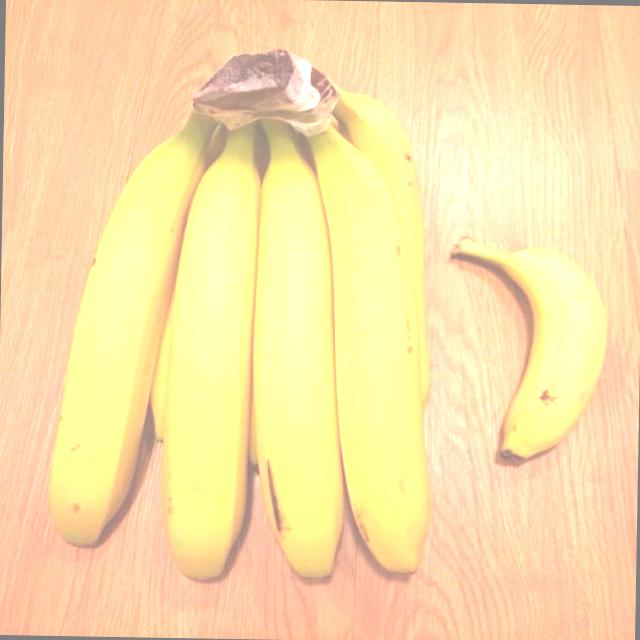Banana: (42, 46, 438, 582), (448, 234, 612, 468)
